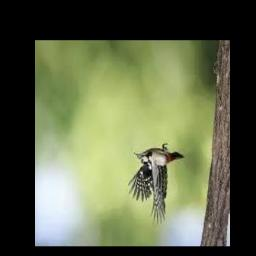Woodpecker: (127, 143, 184, 227)
